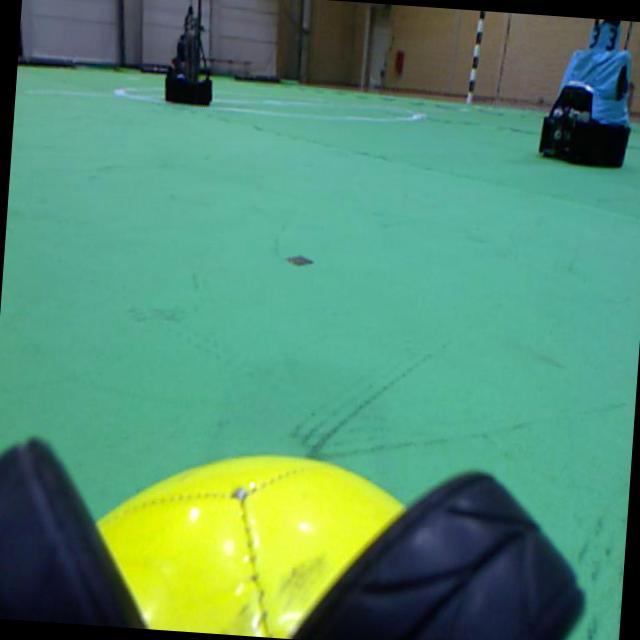ball: (97, 455, 403, 636)
robot: (164, 0, 211, 104)
